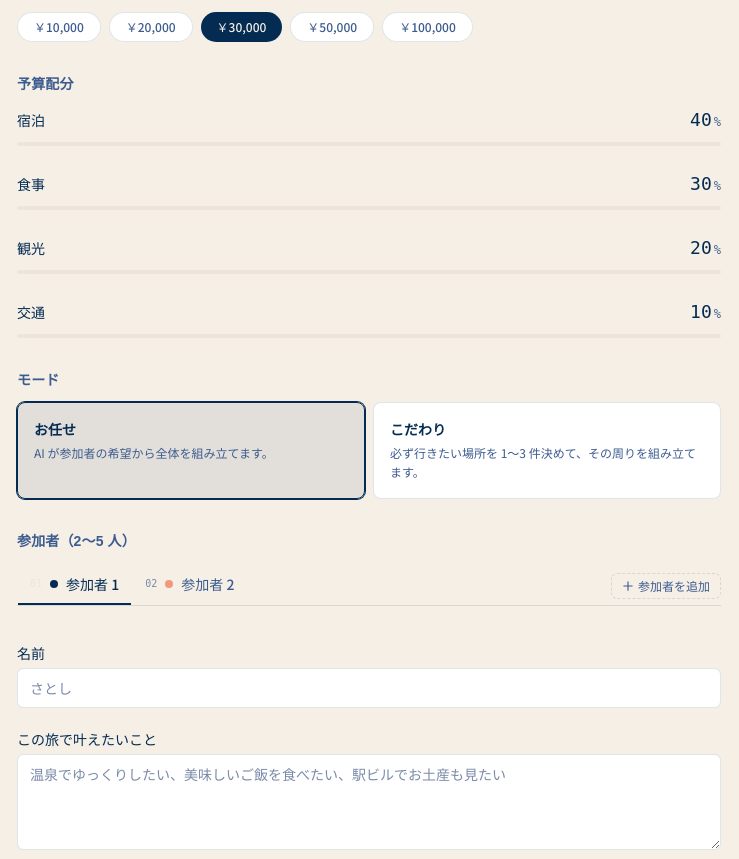
/plan/new mode 切替統合 › こだわりモード選択で AnchorPicker が現れ、auto に戻すと消える
The image size is (739, 859).
(page scrolled)
What coordinates should you click on to do the following:
click the radio button labelled "こだわり 必ず行きたい場所を 1〜3 件決めて、その周りを組み立てます。"
I would click on:
 (547, 450)
Its box is [373,402,721,499].
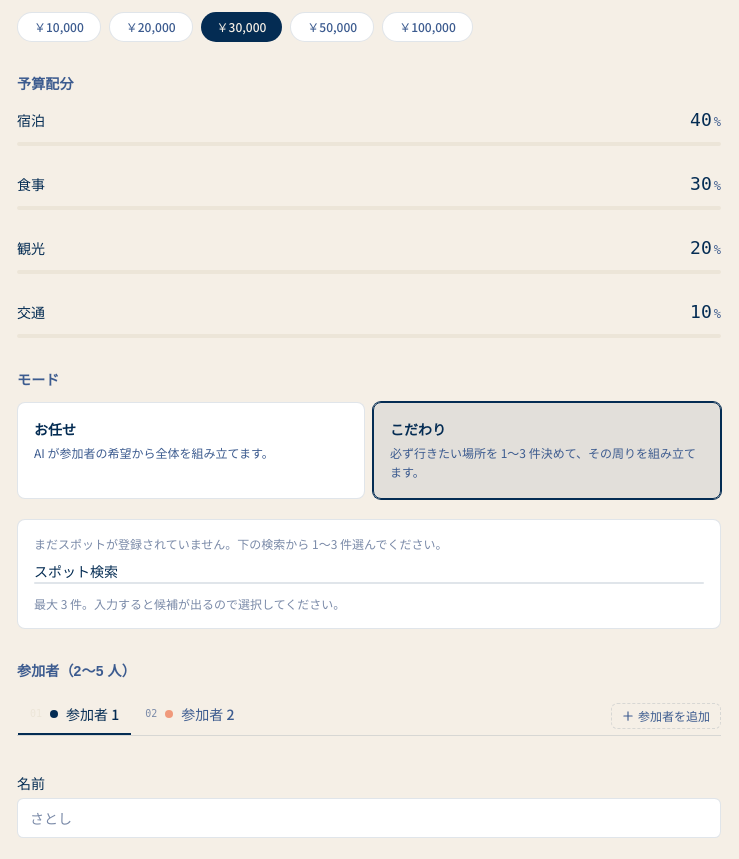
Check: the element named "スポット検索" below "スポット検索" is shown, box [34,582,704,584]
What coordinates should you click on to do the following:
click the radio button labelled "お任せ AI が参加者の希望から全体を組み立てます。"
I would click on:
 (191, 450)
Its box is [17,402,365,499].
(page scrolled)
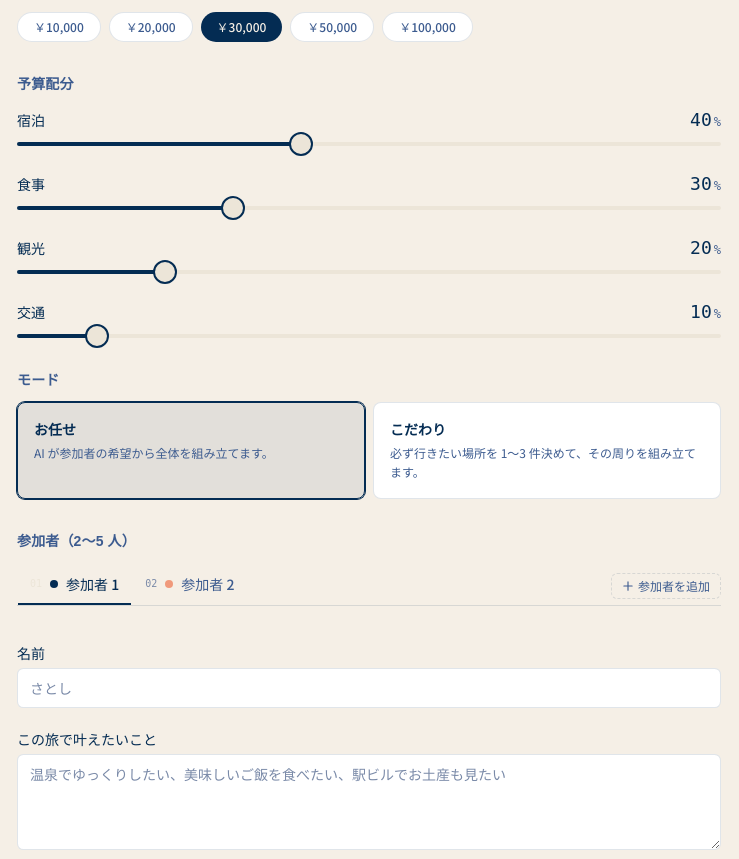
Check: the label labelled "スポット検索" is gone
